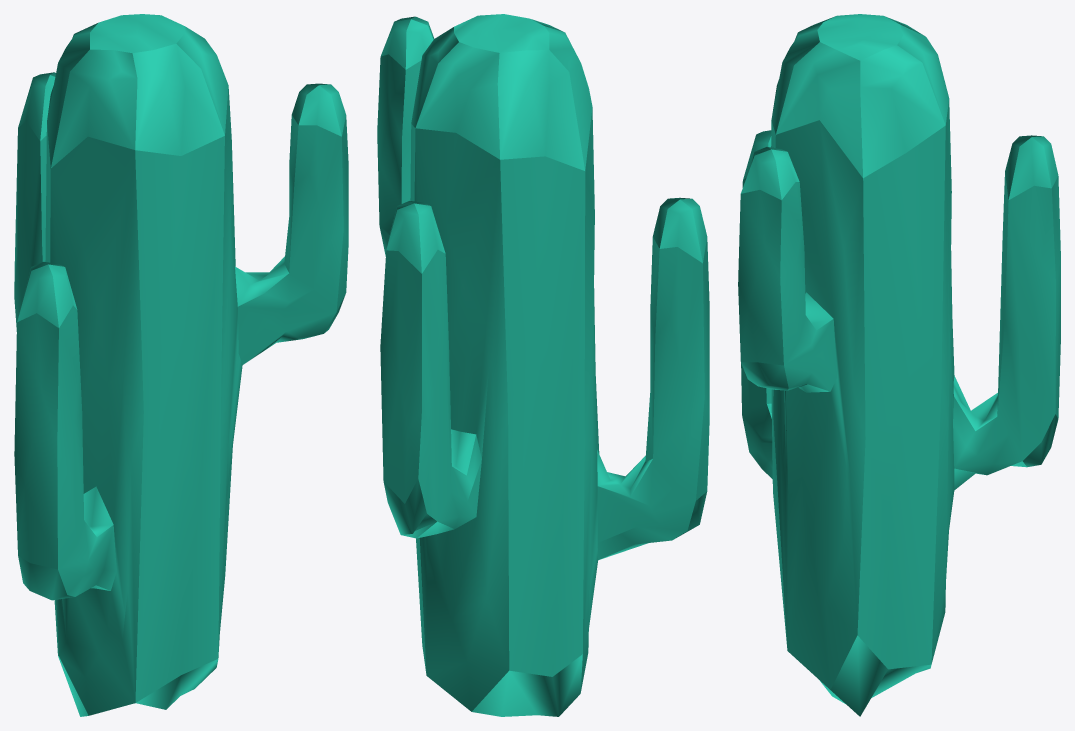
The model's file is cactusTall.glb.
3 views of the same model, side by side, from view 1: azimuth 30°, elevation 25°; view 2: azimuth 150°, elevation 25°; view 3: azimuth 270°, elevation 25° (orthographic). The views are drawn at different scales.
Visible parts, largest first — view 1: Asset3DLoader.sceneRoot; view 2: Asset3DLoader.sceneRoot; view 3: Asset3DLoader.sceneRoot.
Part boxes in pixels (<box>): Asset3DLoader.sceneRoot: <box>14,14,348,716</box>; Asset3DLoader.sceneRoot: <box>377,14,709,716</box>; Asset3DLoader.sceneRoot: <box>738,14,1060,716</box>.
Size of the model in its own units: 0.3826 by 0.75 by 0.3323.
